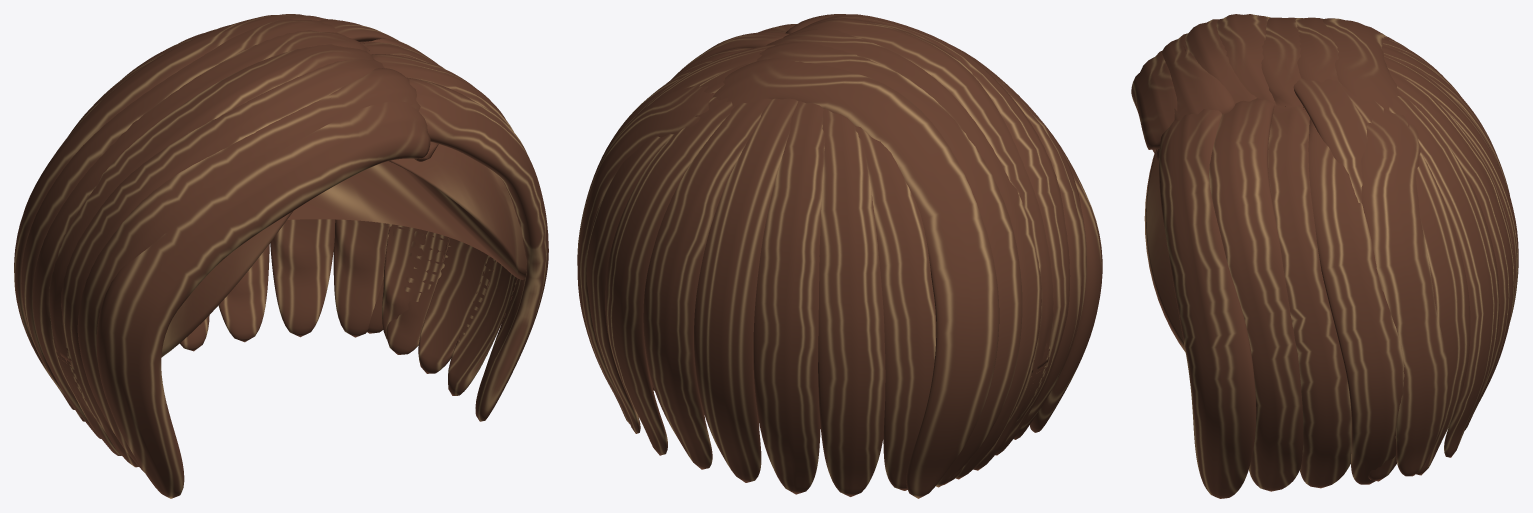
File: Highlights-4ac4386bfc68252-hair.glb
3 renders of one model, left to right at view 1: azimuth 30°, elevation 25°; view 2: azimuth 150°, elevation 25°; view 3: azimuth 270°, elevation 25°, orthographic. The views are drawn at different scales.
Parts seen in each view (by area): view 1: 226 hair / Hair / sculpted 0.001, 226 hair / Hair / sculpted 1.001, 226 hair / Hair / sculpted 2.001, 226 hair / Hair / sculpted 1.002; view 2: 226 hair / Hair / sculpted 0.001, 226 hair / Hair / sculpted 2.001, 226 hair / Hair / sculpted 1.001; view 3: 226 hair / Hair / sculpted 1.001, 226 hair / Hair / sculpted 2.001, 226 hair / Hair / sculpted 0.001, 226 hair / Hair / sculpted 1.002.
Boxes of the visible parts, <box> form: 226 hair / Hair / sculpted 0.001: <box>14,14,496,498</box>; 226 hair / Hair / sculpted 1.001: <box>32,20,548,472</box>; 226 hair / Hair / sculpted 2.001: <box>21,18,517,467</box>; 226 hair / Hair / sculpted 1.002: <box>53,144,526,366</box>; 226 hair / Hair / sculpted 0.001: <box>605,18,1102,498</box>; 226 hair / Hair / sculpted 2.001: <box>577,14,1070,490</box>; 226 hair / Hair / sculpted 1.001: <box>577,14,1086,496</box>; 226 hair / Hair / sculpted 1.001: <box>1159,17,1514,498</box>; 226 hair / Hair / sculpted 2.001: <box>1183,17,1518,491</box>; 226 hair / Hair / sculpted 0.001: <box>1131,14,1509,488</box>; 226 hair / Hair / sculpted 1.002: <box>1144,106,1302,352</box>.
Bounding box in the file's own units: 1 × 0.8416 × 0.7666.
4 materials, 4 textured.
